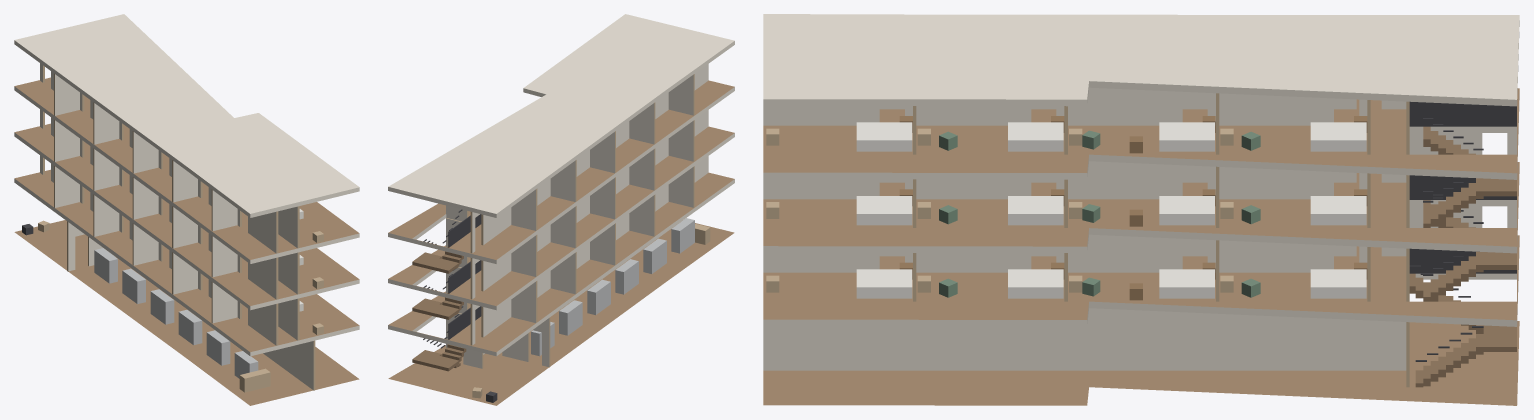
Rendered from interior.glb.
3 views of the same model, side by side, from view 1: azimuth 30°, elevation 25°; view 2: azimuth 150°, elevation 25°; view 3: azimuth 270°, elevation 25° (orthographic). The views are drawn at different scales.
Visible parts, largest first — view 1: slabs, partitions, coarse-s0; view 2: slabs, partitions, coarse-s0, stair; view 3: slabs, partitions, stair, coarse-s1, coarse-s3, coarse-s2.
Part boxes in pixels (x1,y1,x2,y2): slabs: (14, 14, 359, 405); partitions: (40, 63, 315, 390); coarse-s0: (22, 220, 270, 392); slabs: (388, 14, 734, 405); partitions: (446, 64, 708, 368); coarse-s0: (472, 218, 710, 402); stair: (412, 209, 481, 371); slabs: (763, 14, 1519, 405); partitions: (763, 87, 1516, 387); stair: (1409, 101, 1516, 387); coarse-s1: (766, 262, 1367, 300); coarse-s3: (766, 116, 1367, 153); coarse-s2: (766, 189, 1367, 226).
Bounding box in the file's own units: 7.27 × 12.1 × 27.05.
